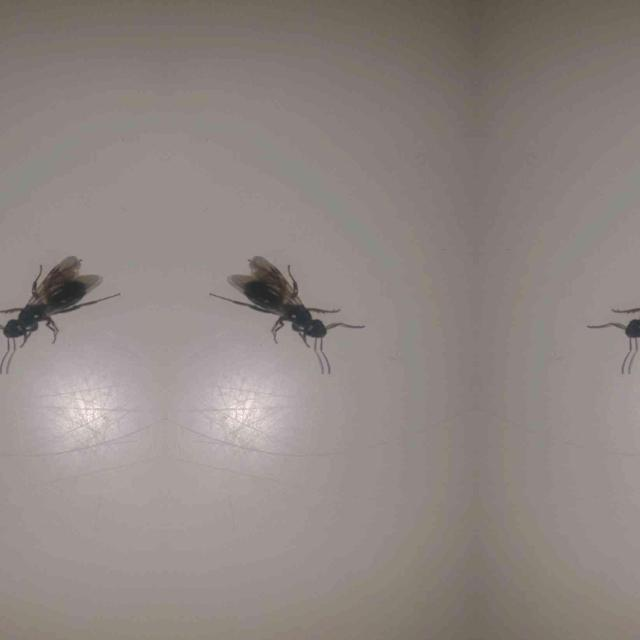Lasius: (224, 258, 330, 356), (0, 258, 104, 354)
